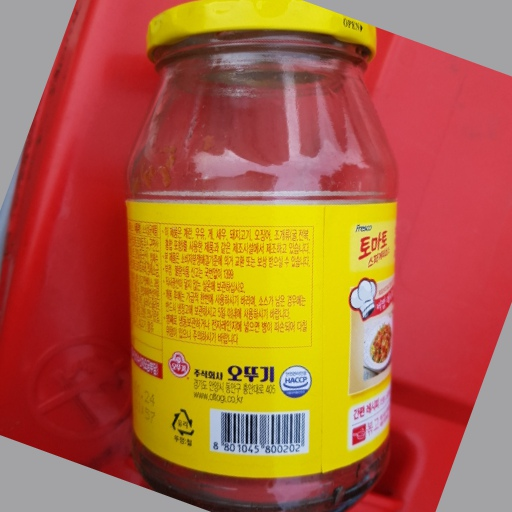Glass_5: (119, 3, 396, 509)
